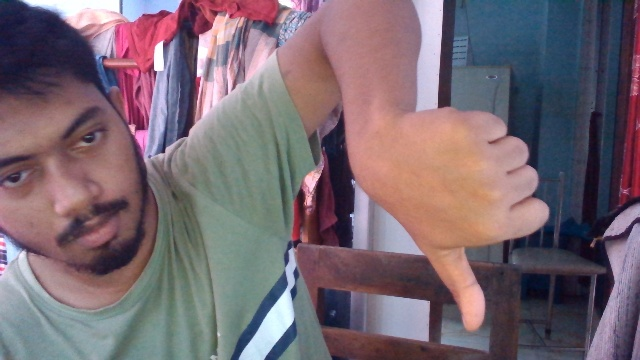no: (339, 96, 556, 334)
